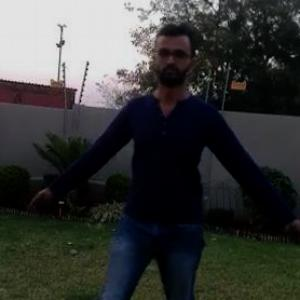land: (67, 60, 295, 299)
